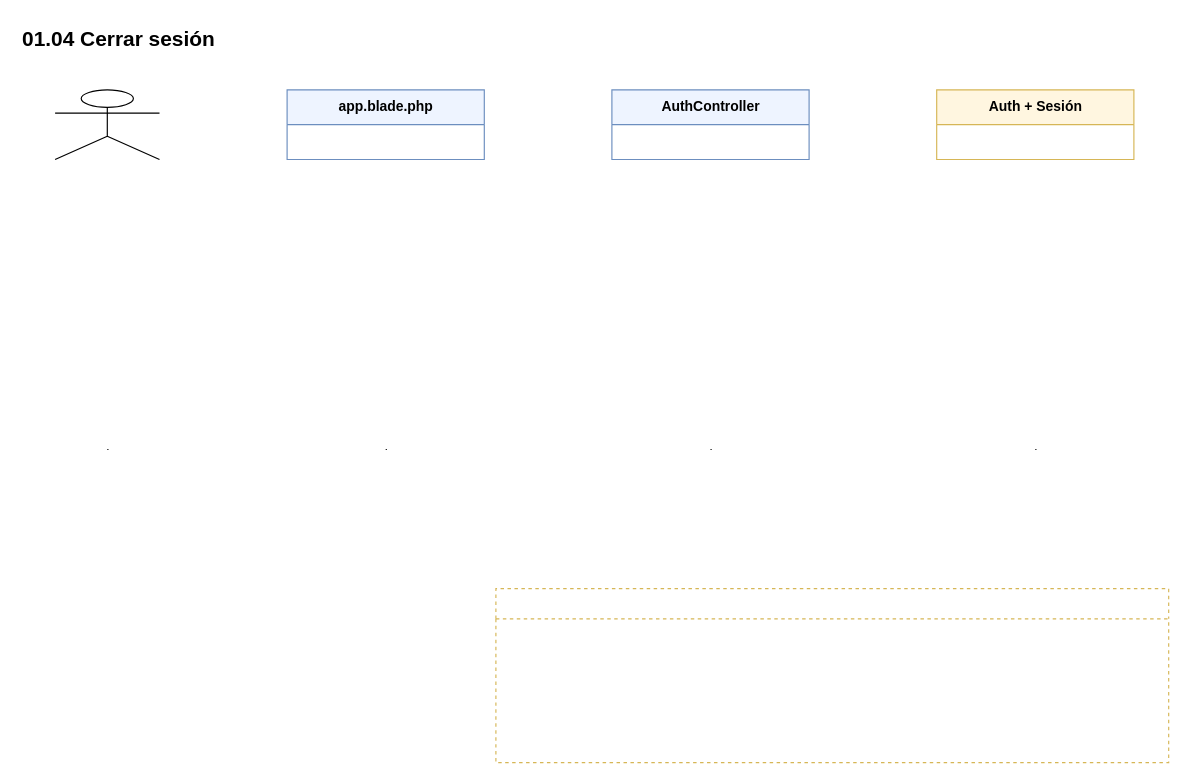
This 1189x783 diagram has some shape labels left out. Each missing label, with the centre of its shape:
"alt — respuesta JSON o web" belongs at (x=832, y=675).
"Usuario" belongs at (x=107, y=124).
